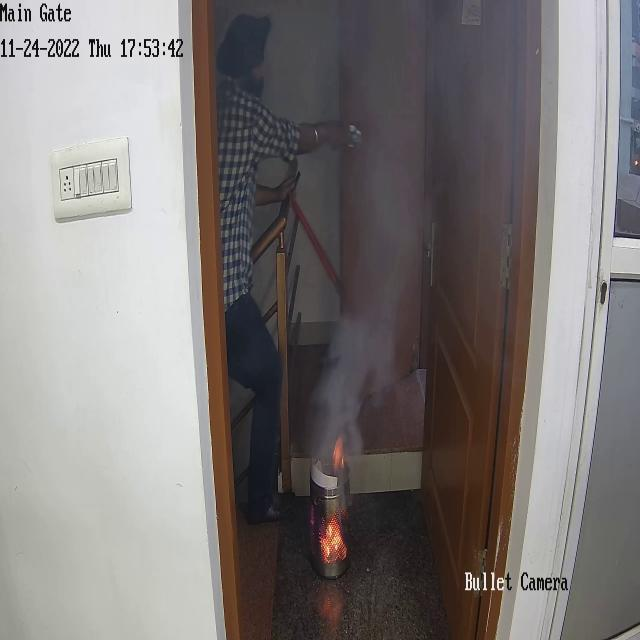fire: (322, 514, 342, 557), (332, 437, 345, 469)
smoke: (340, 32, 424, 114), (442, 44, 506, 132), (332, 323, 389, 401), (362, 178, 416, 250), (358, 256, 404, 336), (448, 4, 518, 55), (466, 120, 503, 213), (371, 116, 422, 176), (348, 397, 366, 452), (322, 394, 335, 449)
